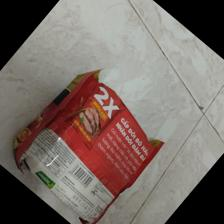3mien: (13, 68, 167, 224)
